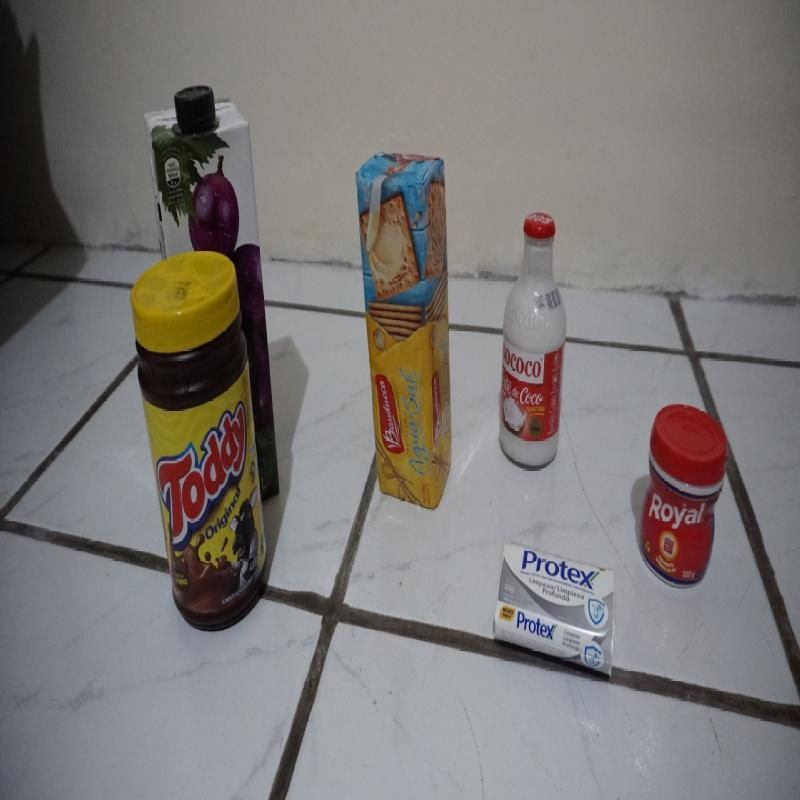Chocolate Powder: (131, 249, 271, 638)
Coconut Milk: (497, 212, 569, 471)
Cracker: (354, 147, 453, 512)
Soap: (492, 540, 617, 676)
Yeast: (640, 403, 728, 591)
